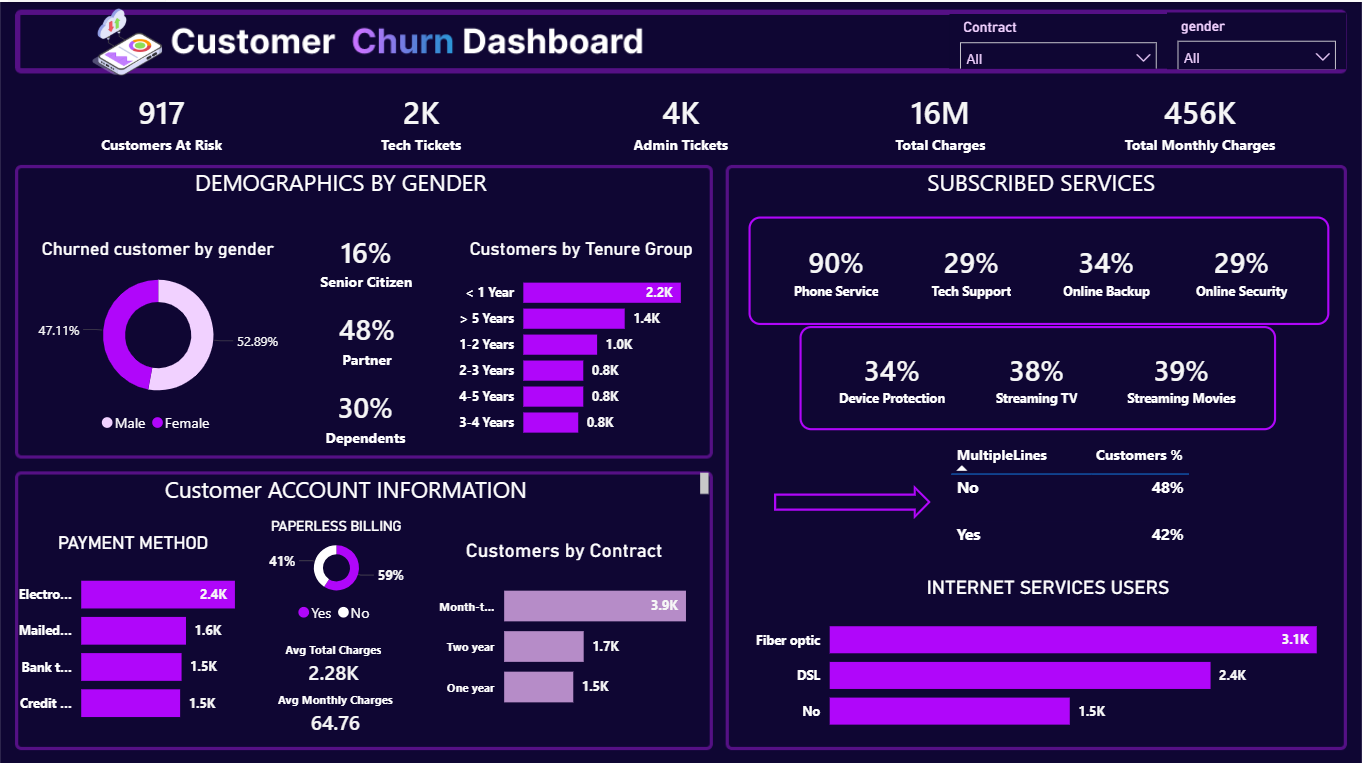

What the dashboard file says about the page in this screenshot:
{"tool":"powerbi","page":{"name":"Page 1","canvas":[1280,720],"ordinal":0},"visuals":[{"type":"cardVisual","fields":{"Data":["Dax.Customers At Risk","Dax.Tech Tickets","Dax.Admin Tickets","Dax.Yearly Charges","Dax.Monthly Charges"]},"box":[16.7,63.6,1249.2,98.4],"z":0},{"type":"donutChart","title":"Churned customer by gender","fields":{"Category":["Dim_Customer.gender"],"Y":["Dax.Customers At Risk"]},"box":[0,221.1,296.7,192.8],"z":1000},{"type":"cardVisual","fields":{"Data":["Dax.Senior Citizen %"]},"box":[262.7,202.2,164.4,85],"z":2000},{"type":"cardVisual","fields":{"Data":["Dax.Partner %"]},"box":[281.6,274,126.6,86.9],"z":3000},{"type":"cardVisual","fields":{"Data":["Dax.Dependents %"]},"box":[266.5,345.8,155,90.7],"z":4000},{"type":"barChart","fields":{"Category":["Fact_Customer_Churn.Tenure Group"],"Y":["Dax.Customers"]},"box":[421.4,221.1,249.5,198.4],"z":5000},{"type":"textbox","box":[0,149.9,640.5,51.5],"z":6000},{"type":"textbox","box":[690.5,149.9,575.4,51.5],"z":7000},{"type":"cardVisual","fields":{"Data":["Dax.Phone Service %","Dax.ech Support %","Dax.Online Backup %","Dax.Online Security %"]},"box":[703,202.2,546.1,102],"z":8000},{"type":"cardVisual","fields":{"Data":["Dax.Device Protection %","Dax.Streaming TV %","Dax.Streaming Movies %"]},"box":[752.1,304.3,447.9,98.3],"z":9000},{"type":"shape","box":[727.6,453.5,147.4,32.1],"z":10000},{"type":"clusteredBarChart","title":"INTERNET SERVICES USERS","fields":{"Category":["Dim_Services.InternetService"],"Y":["Dax.Customers"]},"box":[703,540.5,563.2,158.7],"z":11000},{"type":"clusteredBarChart","title":"PAYMENT METHOD","fields":{"Category":["Dim_Billing.PaymentMethod"],"Y":["Dax.Customers"]},"box":[0,497,250.1,193.8],"z":12000},{"type":"donutChart","title":"PAPERLESS BILLING","fields":{"Category":["Dim_Billing.PaperlessBilling"],"Y":["Dax.Customers"]},"box":[209.8,485.7,211.7,107.7],"z":13000},{"type":"cardVisual","fields":{"Data":["Dax.Avg Total Charges"]},"box":[237.6,586.1,153.2,70.3],"z":14000},{"type":"cardVisual","fields":{"Data":["Dax.Avg Monthly Charges"]},"box":[231.3,634.6,168.8,68.8],"z":15000},{"type":"textbox","box":[149.3,436.5,521.6,34],"z":16000},{"type":"barChart","fields":{"Category":["Dim_Billing.Contract"],"Y":["Dax.Customers"]},"box":[390.7,504.8,279.8,175.1],"z":17000},{"type":"tableEx","fields":{"Values":["Dim_Services.MultipleLines","Dax.Customers %"]},"box":[888.2,410.1,240,107.7],"z":18000},{"type":"image","box":[42.2,0,154.7,75],"z":19000},{"type":"slicer","fields":{"Values":["Dim_Customer.gender"]},"box":[1097.2,9.4,168.8,53.1],"z":20000},{"type":"slicer","fields":{"Values":["Dim_Billing.Contract"]},"box":[892.5,10.9,204.8,51.6],"z":21000}]}

Visuals, with their boxes in screenshot pixels (x1, y1, x2, y2), scaled from the page's 1280x720 canvas onto the 1362x763 screenshot:
cardVisual - Dax.Customers At Risk x Dax.Tech Tickets: BBox(18, 67, 1347, 172)
"Churned customer by gender" donutChart: BBox(0, 234, 316, 439)
cardVisual - Dax.Senior Citizen %: BBox(280, 214, 454, 304)
cardVisual - Dax.Partner %: BBox(300, 290, 434, 382)
cardVisual - Dax.Dependents %: BBox(284, 366, 449, 463)
barChart - Fact_Customer_Churn.Tenure Group x Dax.Customers: BBox(448, 234, 714, 445)
textbox: BBox(0, 159, 682, 213)
textbox: BBox(735, 159, 1347, 213)
cardVisual - Dax.Phone Service % x Dax.ech Support %: BBox(748, 214, 1329, 322)
cardVisual - Dax.Device Protection % x Dax.Streaming TV %: BBox(800, 322, 1277, 427)
shape: BBox(774, 481, 931, 515)
"INTERNET SERVICES USERS" clusteredBarChart: BBox(748, 573, 1347, 741)
"PAYMENT METHOD" clusteredBarChart: BBox(0, 527, 266, 732)
"PAPERLESS BILLING" donutChart: BBox(223, 515, 449, 629)
cardVisual - Dax.Avg Total Charges: BBox(253, 621, 416, 696)
cardVisual - Dax.Avg Monthly Charges: BBox(246, 672, 426, 745)
textbox: BBox(159, 463, 714, 499)
barChart - Dim_Billing.Contract x Dax.Customers: BBox(416, 535, 713, 721)
tableEx - Dim_Services.MultipleLines x Dax.Customers %: BBox(945, 435, 1200, 549)
image: BBox(45, 0, 210, 79)
slicer - Dim_Customer.gender: BBox(1167, 10, 1347, 66)
slicer - Dim_Billing.Contract: BBox(950, 12, 1168, 66)
